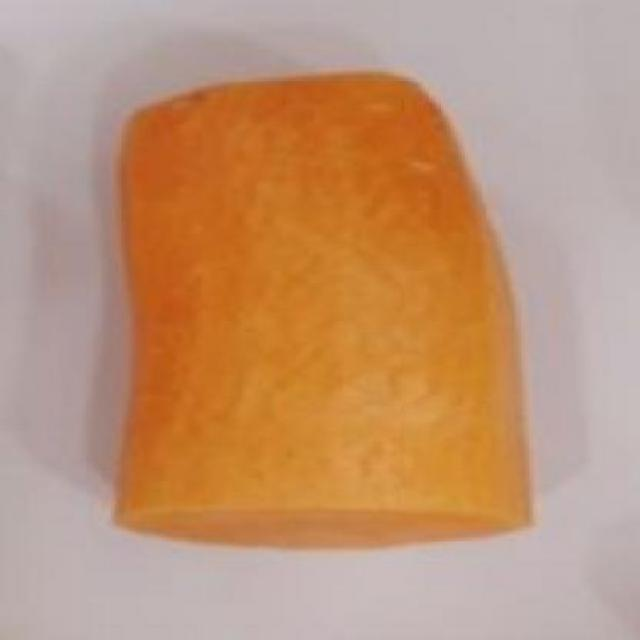carrot: (61, 61, 581, 582)
